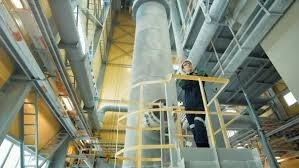helmet: (178, 57, 195, 69)
person with partial safety: (173, 57, 214, 150)
